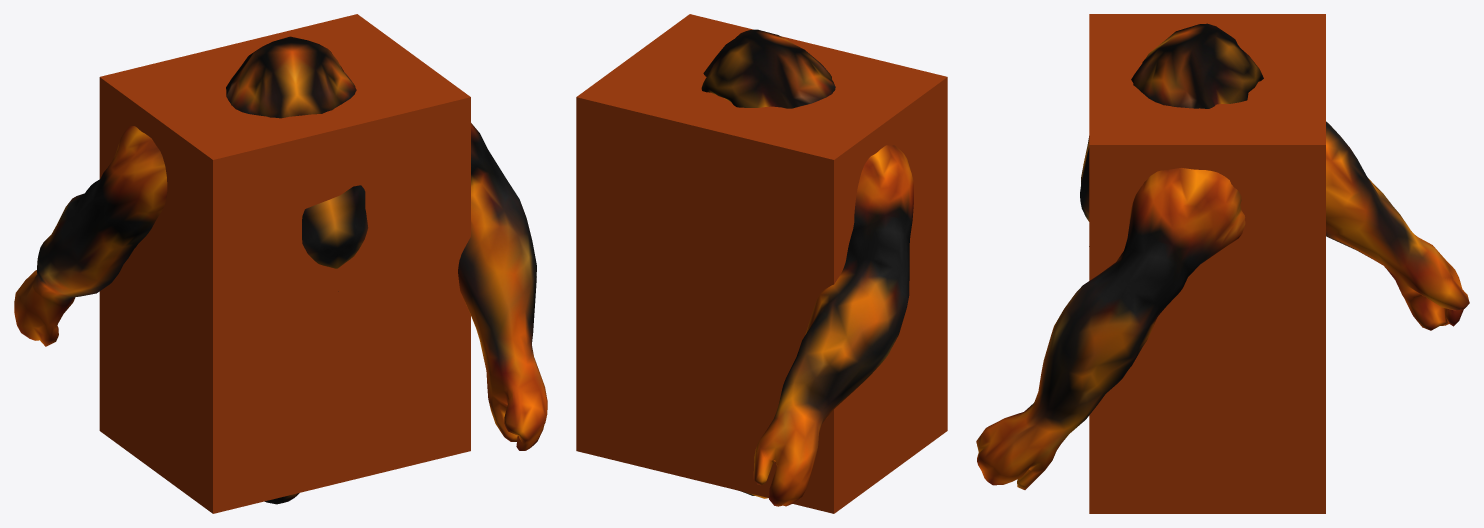
File: MagmaElemental_1_000029.obj
3 renders of one model, left to right at view 1: azimuth 30°, elevation 25°; view 2: azimuth 150°, elevation 25°; view 3: azimuth 270°, elevation 25°, orthographic. The views are drawn at different scales.
Parts seen in each view (by area): view 1: Cube, Elemental_FireGolem; view 2: Cube, Elemental_FireGolem; view 3: Cube, Elemental_FireGolem.
Boxes of the visible parts, bbox=[...] form: Cube: bbox=[99, 14, 470, 513]; Elemental_FireGolem: bbox=[14, 36, 547, 504]; Cube: bbox=[576, 14, 947, 513]; Elemental_FireGolem: bbox=[701, 29, 913, 506]; Cube: bbox=[1089, 14, 1325, 513]; Elemental_FireGolem: bbox=[976, 23, 1469, 489].
Bounding box in the file's own units: 3.37 × 3.91 × 3.68.
Materials: 2 (1 with a texture image).
